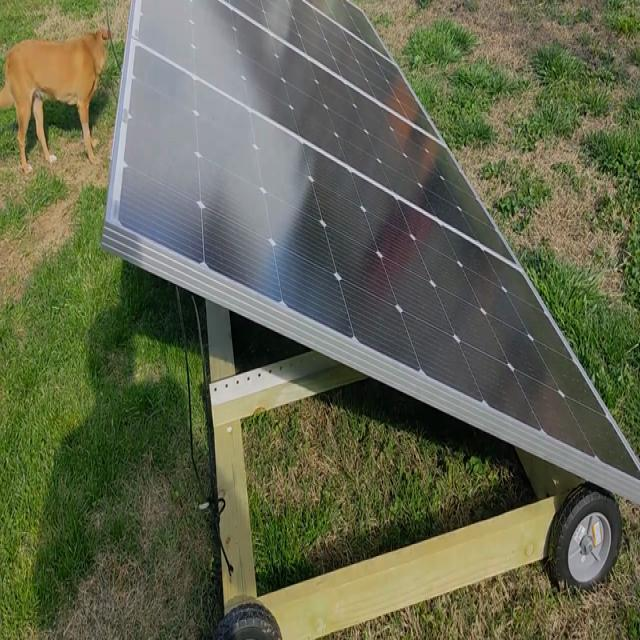Normal Solar Panel: (107, 0, 640, 476)
